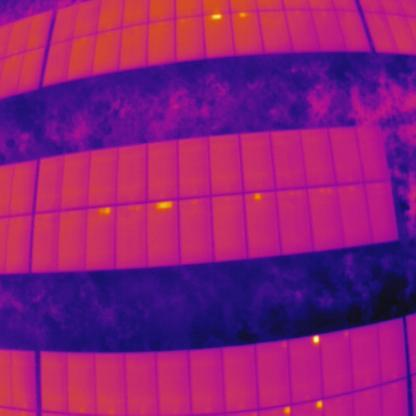anomaly: (152, 200, 175, 210), (281, 403, 293, 416), (210, 11, 223, 23), (311, 333, 320, 348), (96, 206, 111, 215), (315, 398, 323, 411), (237, 11, 247, 21), (252, 191, 261, 202)
